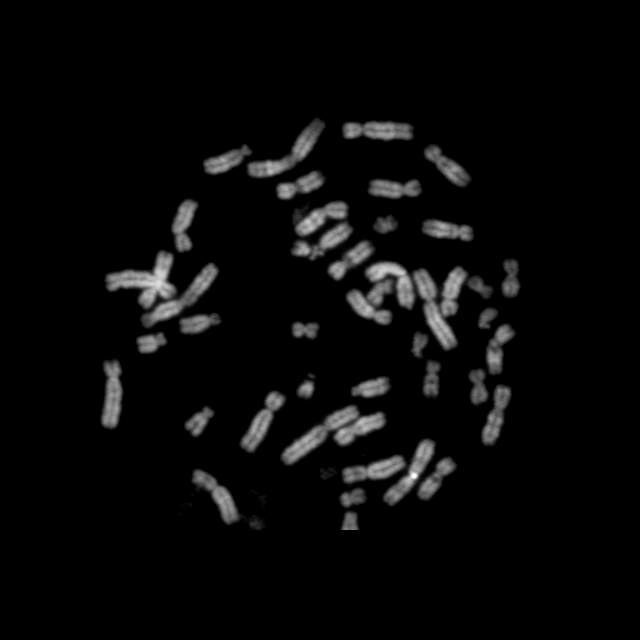chromosome: (141, 265, 219, 329), (282, 404, 358, 464), (249, 120, 325, 177), (414, 268, 456, 350), (190, 469, 240, 525), (240, 393, 284, 453), (364, 262, 414, 308), (106, 270, 176, 300), (426, 146, 474, 188), (294, 201, 350, 237), (346, 288, 394, 330), (140, 250, 174, 308), (481, 384, 511, 446), (343, 455, 405, 485), (330, 240, 372, 282), (418, 457, 456, 501), (336, 412, 384, 446), (101, 360, 123, 432), (343, 120, 413, 142), (171, 199, 197, 255), (424, 218, 476, 246), (486, 325, 514, 377), (206, 142, 250, 174), (368, 177, 422, 203), (442, 266, 466, 318), (318, 222, 356, 254), (276, 172, 322, 198), (182, 311, 220, 339), (351, 375, 391, 401), (186, 404, 214, 438), (368, 276, 396, 308), (503, 258, 523, 302), (136, 332, 168, 358), (422, 358, 442, 398), (296, 374, 322, 402), (470, 368, 488, 406), (338, 487, 368, 509), (291, 321, 319, 342), (470, 274, 492, 300), (408, 334, 430, 360), (290, 237, 314, 260), (479, 306, 495, 330), (342, 512, 360, 532)
